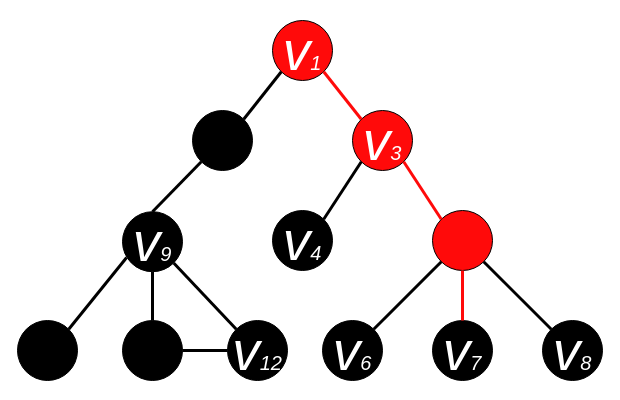
This 620x400 diagram has some shape labels left out. The shapes that lost their labels are listed below. From the top down, each one's centre as x and y in pixels, then its label:
point (222, 140): v 2
point (462, 240): v 5
point (47, 350): v 10
point (152, 350): v 11
